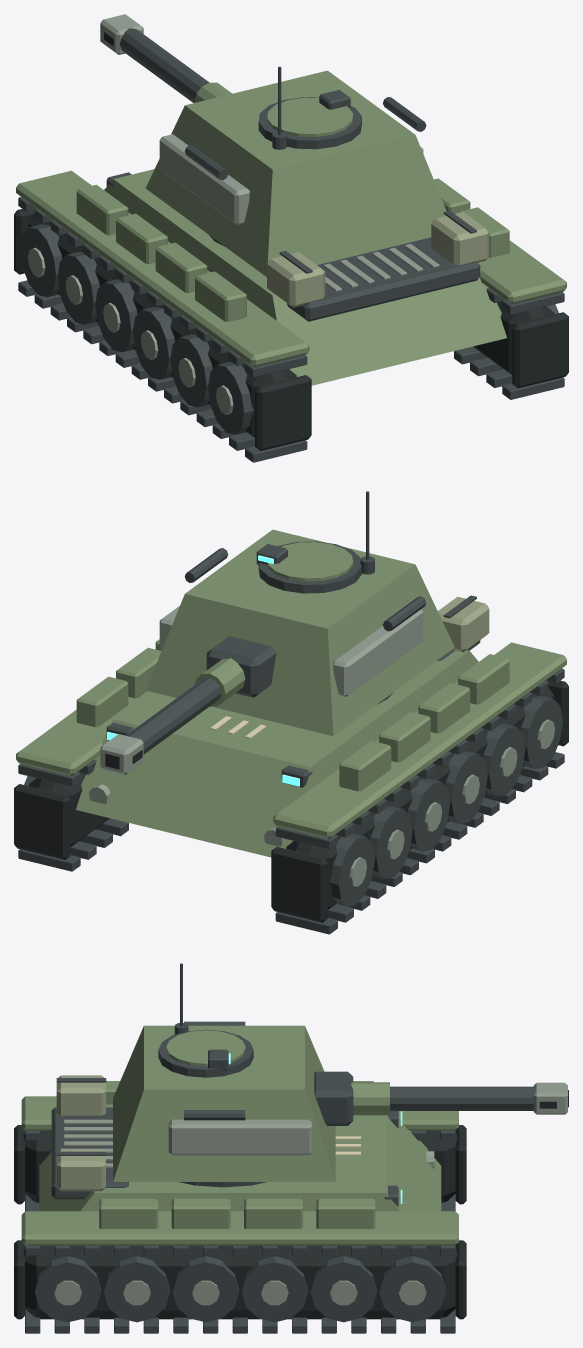
The model's file is tank_heavy_mk2.glb.
3 views of the same model, one above another, from view 1: azimuth 30°, elevation 25°; view 2: azimuth 150°, elevation 25°; view 3: azimuth 270°, elevation 25° (orthographic). The views are drawn at different scales.
Parts seen in each view (by area): view 1: tank_heavy_mk2_TankPaint, tank_heavy_mk2_TankPaint.001, tank_heavy_mk2_RunningGear, tank_heavy_mk2_TankTracks, tank_heavy_mk2_RunningGear.001, tank_heavy_mk2_Canvas, tank_heavy_mk2_ArmorEdges.001, tank_heavy_mk2_ArmorEdges; view 2: tank_heavy_mk2_TankPaint, tank_heavy_mk2_TankPaint.001, tank_heavy_mk2_RunningGear, tank_heavy_mk2_TankTracks, tank_heavy_mk2_RunningGear.001, tank_heavy_mk2_ArmorEdges.001, tank_heavy_mk2_ArmorEdges, tank_heavy_mk2_Canvas; view 3: tank_heavy_mk2_TankPaint, tank_heavy_mk2_RunningGear, tank_heavy_mk2_TankPaint.001, tank_heavy_mk2_TankTracks, tank_heavy_mk2_RunningGear.001, tank_heavy_mk2_ArmorEdges.001, tank_heavy_mk2_ArmorEdges, tank_heavy_mk2_Canvas.
Boxes of the visible parts, <box> form: tank_heavy_mk2_TankPaint: <box>16,169,566,385</box>; tank_heavy_mk2_TankPaint.001: <box>145,70,446,276</box>; tank_heavy_mk2_RunningGear: <box>18,172,564,462</box>; tank_heavy_mk2_TankTracks: <box>14,209,568,450</box>; tank_heavy_mk2_RunningGear.001: <box>119,28,426,246</box>; tank_heavy_mk2_Canvas: <box>267,212,489,307</box>; tank_heavy_mk2_ArmorEdges.001: <box>100,14,423,225</box>; tank_heavy_mk2_ArmorEdges: <box>28,243,439,414</box>; tank_heavy_mk2_TankPaint: <box>16,639,566,857</box>; tank_heavy_mk2_TankPaint.001: <box>145,529,454,736</box>; tank_heavy_mk2_RunningGear: <box>18,595,564,934</box>; tank_heavy_mk2_TankTracks: <box>14,680,568,922</box>; tank_heavy_mk2_RunningGear.001: <box>126,491,426,754</box>; tank_heavy_mk2_ArmorEdges.001: <box>100,606,423,774</box>; tank_heavy_mk2_ArmorEdges: <box>89,719,554,886</box>; tank_heavy_mk2_Canvas: <box>438,596,489,652</box>; tank_heavy_mk2_TankPaint: <box>21,1081,458,1245</box>; tank_heavy_mk2_RunningGear: <box>25,1078,455,1333</box>; tank_heavy_mk2_TankPaint.001: <box>113,1025,389,1181</box>; tank_heavy_mk2_TankTracks: <box>14,1125,466,1319</box>; tank_heavy_mk2_RunningGear.001: <box>158,963,536,1187</box>; tank_heavy_mk2_ArmorEdges.001: <box>168,1082,567,1155</box>; tank_heavy_mk2_ArmorEdges: <box>54,1119,434,1305</box>; tank_heavy_mk2_Canvas: <box>56,1075,105,1191</box>.
Bounding box in the file's own units: 2.79 × 2.52 × 4.52.
